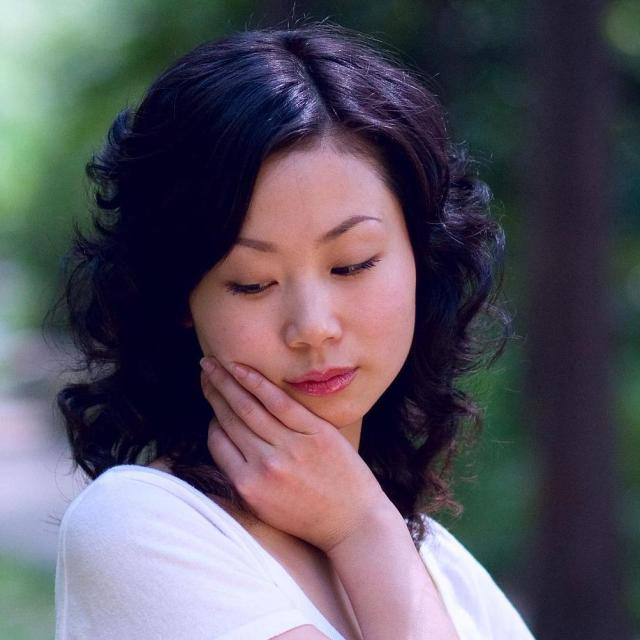no-glass: (212, 254, 388, 298)
